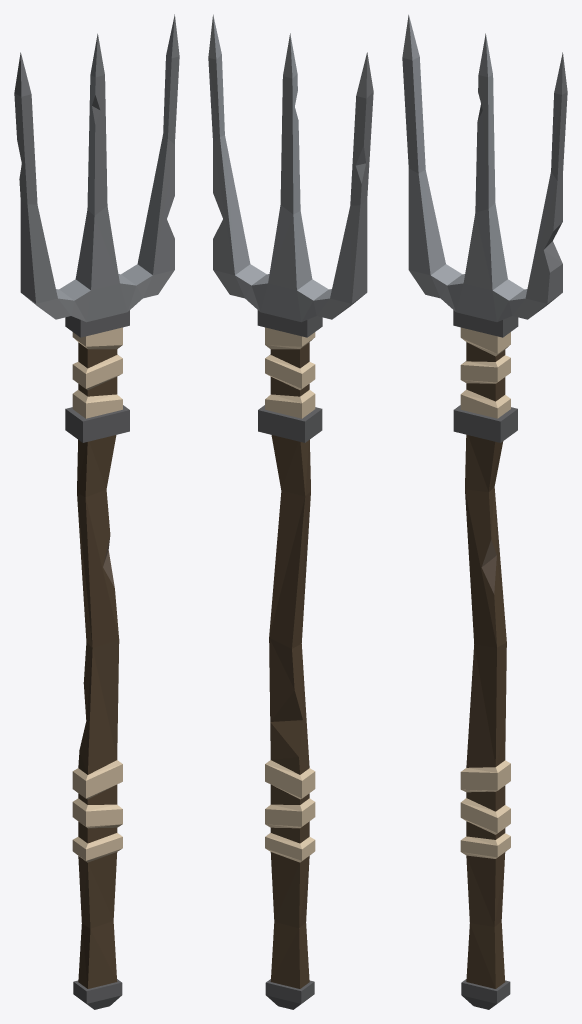
The model's file is SM_Wep_Pitchfork_01.fbx.
The picture shows the model from 3 angles, left to right: view 1: azimuth 30°, elevation 25°; view 2: azimuth 150°, elevation 25°; view 3: azimuth 330°, elevation 25°; orthographic projection.
Parts seen in each view (by area): view 1: SM_Wep_Pitchfork_01; view 2: SM_Wep_Pitchfork_01; view 3: SM_Wep_Pitchfork_01.
Part boxes in pixels (x1,y1,x2,y2): SM_Wep_Pitchfork_01: (14,14,179,1009); SM_Wep_Pitchfork_01: (208,14,373,1009); SM_Wep_Pitchfork_01: (402,14,567,1009).
Bounding box in the file's own units: 0.00334 × 0.0195 × 0.000678.
1 material, 1 textured.
